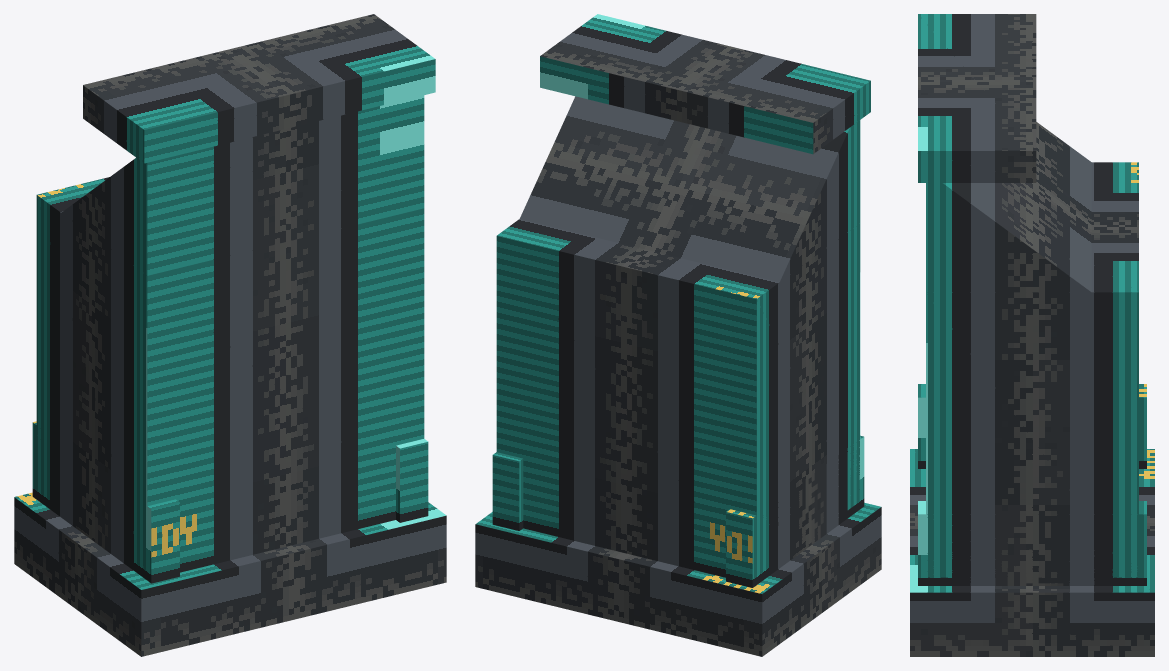
File: prop_terminal.glb
The picture shows the model from 3 angles, left to right: view 1: azimuth 30°, elevation 25°; view 2: azimuth 150°, elevation 25°; view 3: azimuth 270°, elevation 25°; orthographic projection. The views are drawn at different scales.
Visible parts, largest first — view 1: prop_terminal; view 2: prop_terminal; view 3: prop_terminal.
Part boxes in pixels (x1,y1,x2,y2): prop_terminal: [14, 14, 446, 656]; prop_terminal: [475, 14, 881, 656]; prop_terminal: [910, 14, 1154, 656].
Bounding box in the file's own units: 0.86 × 1.4 × 0.62.
Materials: 1 (1 with a texture image).
